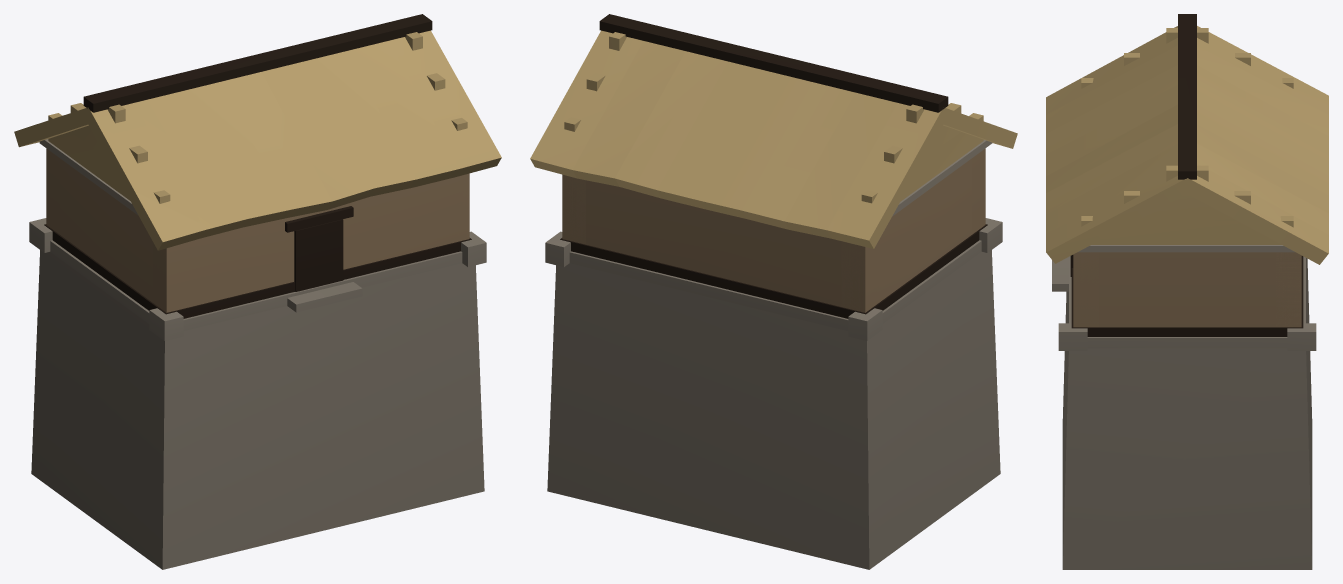
Rendered from killke_house_earth_lod0.glb.
3 views of the same model, side by side, from view 1: azimuth 30°, elevation 25°; view 2: azimuth 150°, elevation 25°; view 3: azimuth 270°, elevation 25° (orthographic). The views are drawn at different scales.
Parts seen in each view (by area): view 1: GEO-Arch_killke_house_earth_LOD0; view 2: GEO-Arch_killke_house_earth_LOD0; view 3: GEO-Arch_killke_house_earth_LOD0.
Part boxes in pixels (x1,y1,x2,y2): GEO-Arch_killke_house_earth_LOD0: (14,14,501,569); GEO-Arch_killke_house_earth_LOD0: (530,14,1017,569); GEO-Arch_killke_house_earth_LOD0: (1046,14,1328,569).
Bounding box in the file's own units: 7.16 × 8.55 × 5.44.
